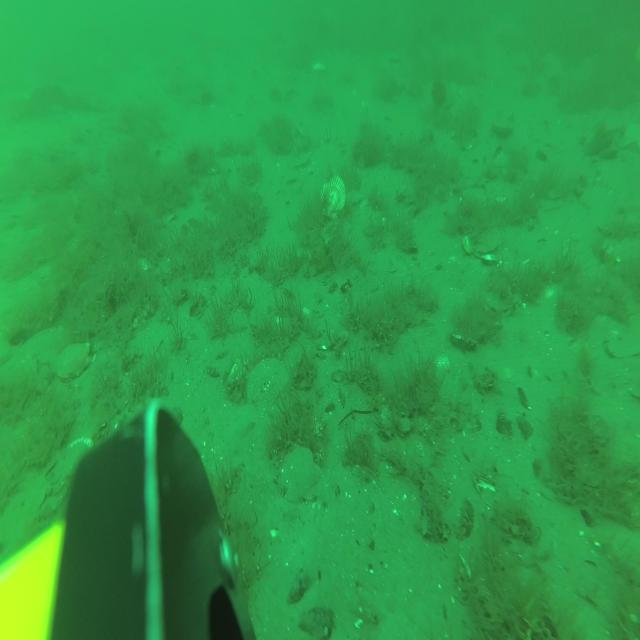scallop: (278, 443, 322, 500), (463, 227, 501, 264), (56, 341, 91, 378), (316, 175, 344, 216)
